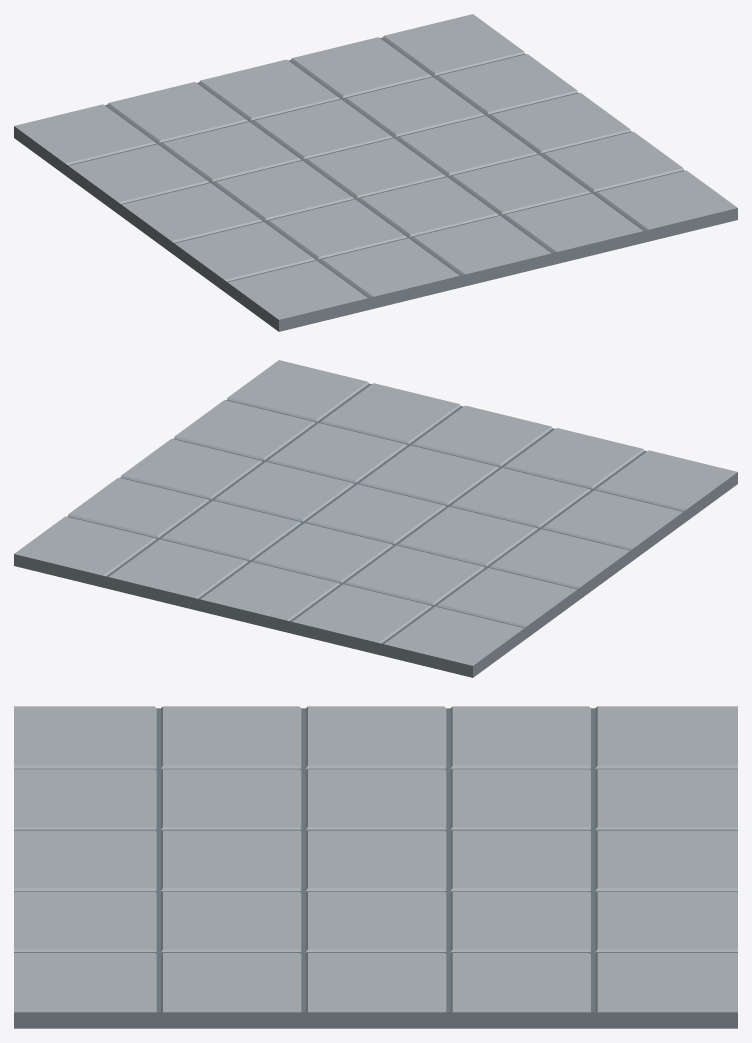
File: clinical-vinyl-floor-tile-d5e53e.glb
3 renders of one model, top to bottom at view 1: azimuth 30°, elevation 25°; view 2: azimuth 150°, elevation 25°; view 3: azimuth 270°, elevation 25°, orthographic. The views are drawn at different scales.
Parts seen in each view (by area): view 1: vinyl-slab; view 2: vinyl-slab; view 3: vinyl-slab.
Part boxes in pixels (box(x1,y1,x2,y2)): vinyl-slab: box(14, 14, 737, 331); vinyl-slab: box(14, 360, 737, 677); vinyl-slab: box(14, 706, 737, 1028).
Bounding box in the file's own units: 2 × 0.05 × 2.
